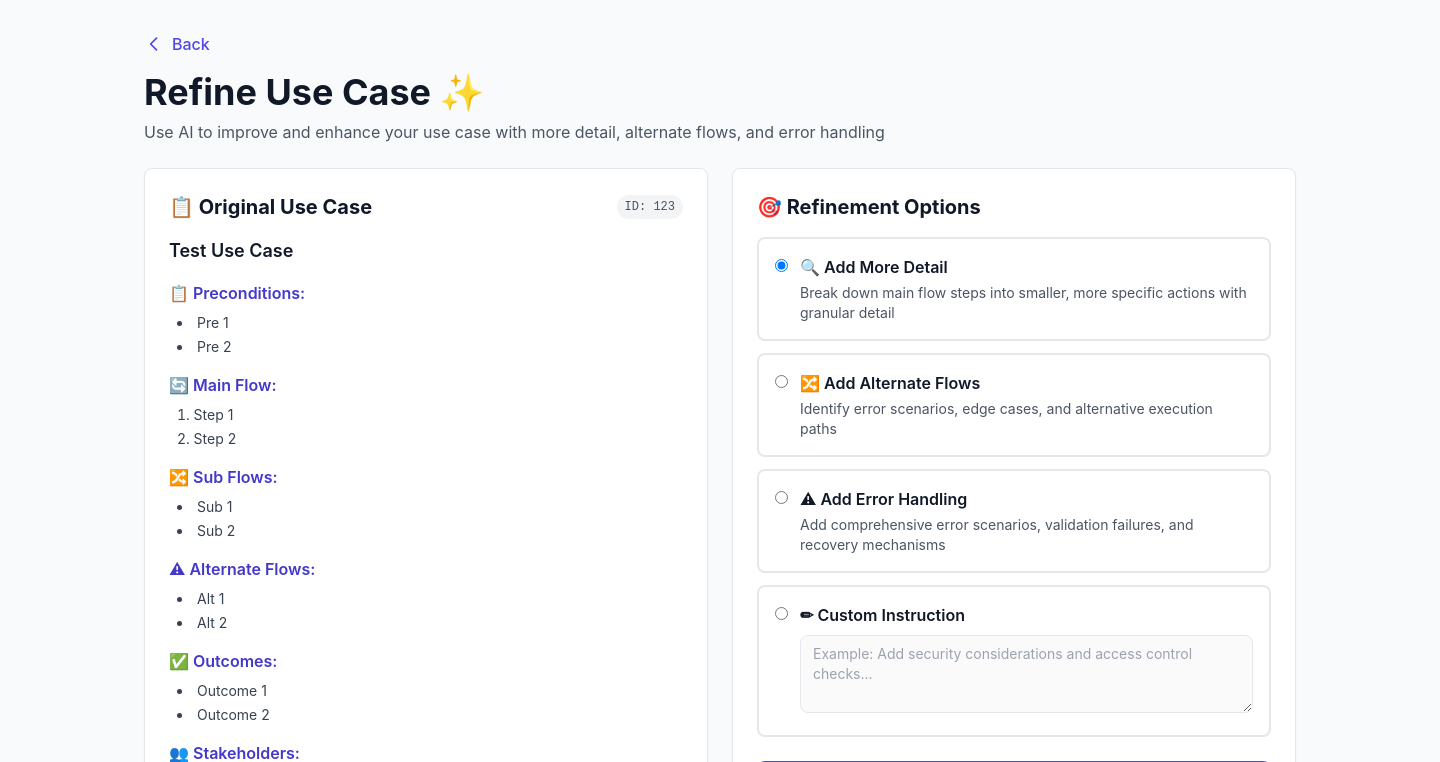
Scenario: UseCaseRefine Component › Refinement Options › disables refinement button for empty custom instruction
Click the radio button labelled "✏ Custom Instruction".
click(782, 614)  # box left=775, top=607, right=788, bottom=620
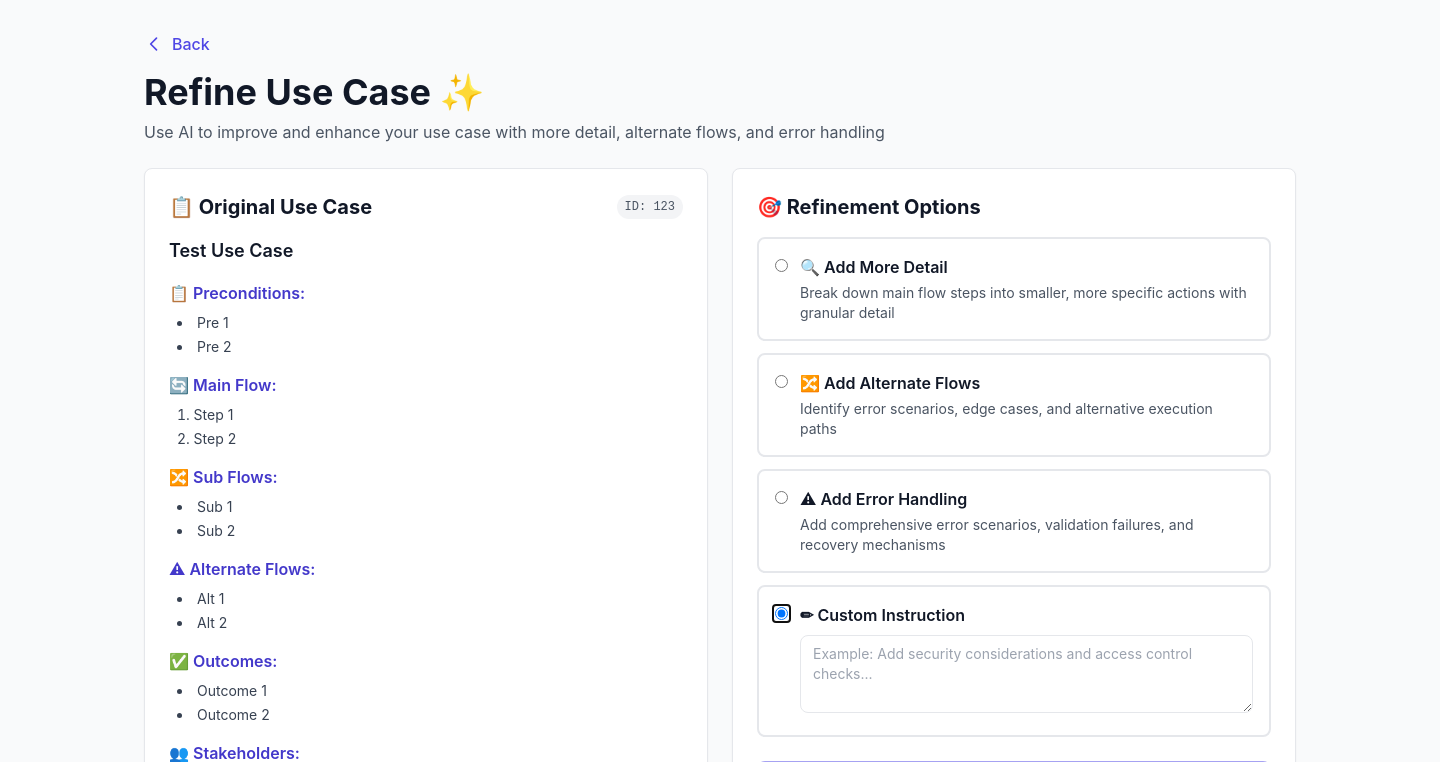
Note: Verify button enables when instruction is added
Type "Test instruction" into the text box with placeholder "Example:".
click(1026, 674); type("Test instruction")  # box left=800, top=635, right=1253, bottom=713
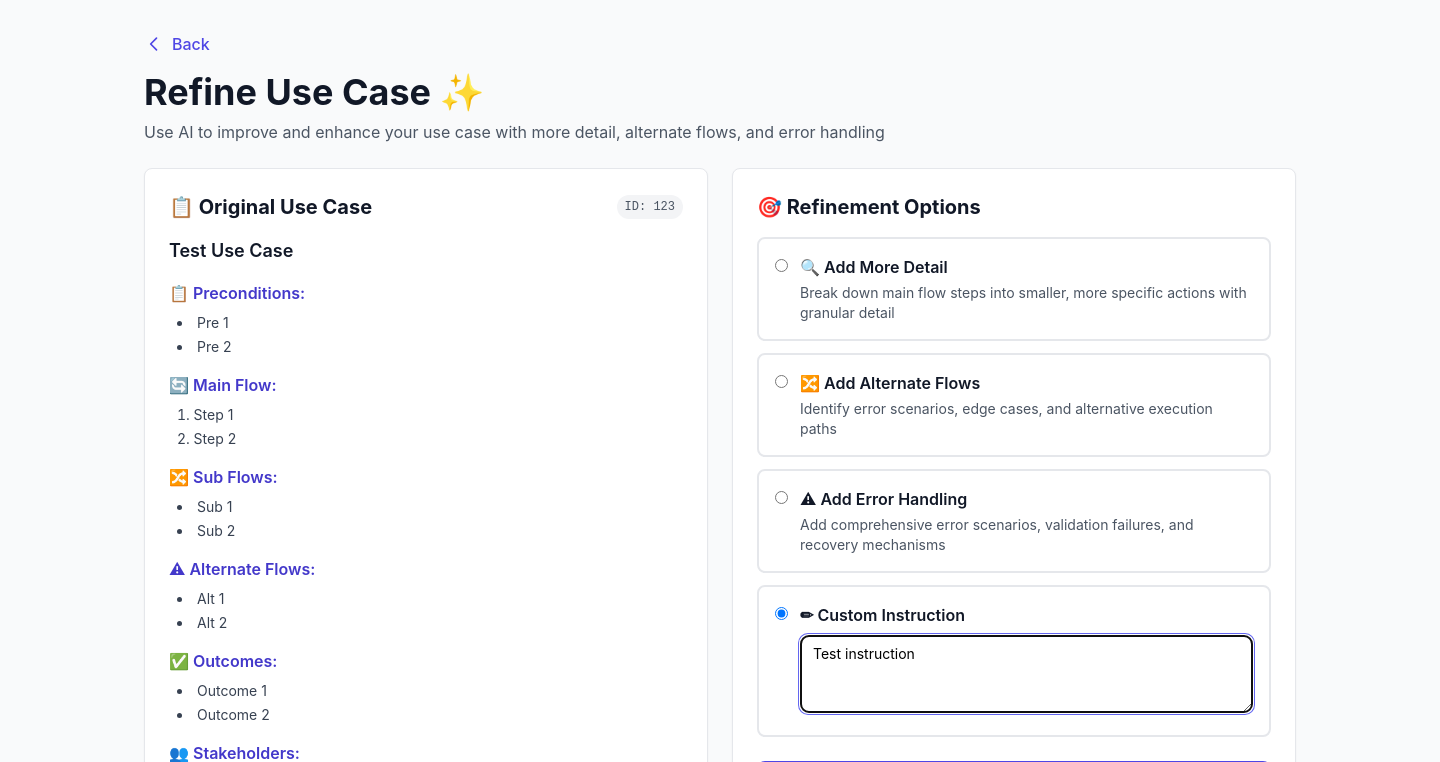
Note: Verify button disables when instruction is cleared
Clear the text box with placeholder "Example:" at (1026, 674), box left=800, top=635, right=1253, bottom=713
(page scrolled)
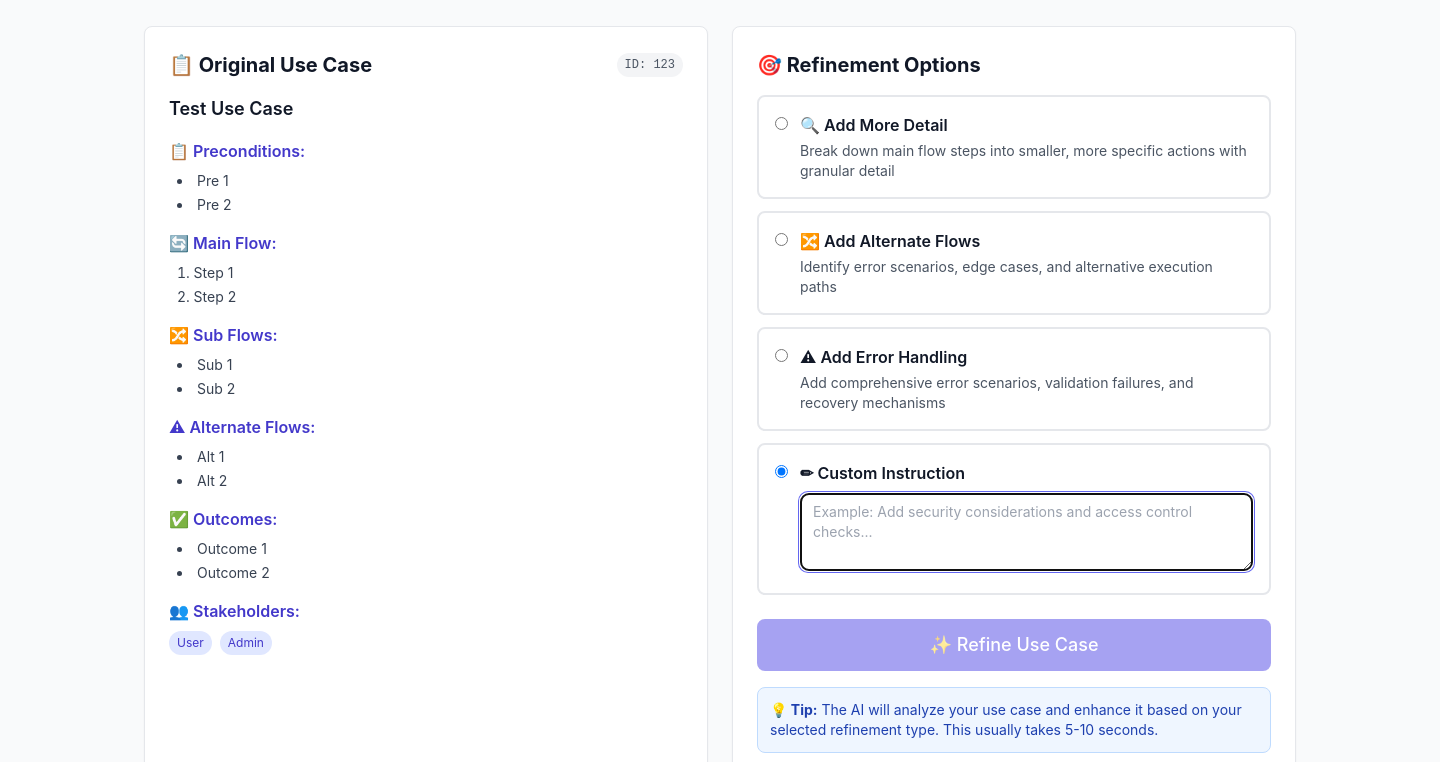
Expected: the button "✨ Refine Use Case" is disabled, left=757, top=619, right=1271, bottom=671
